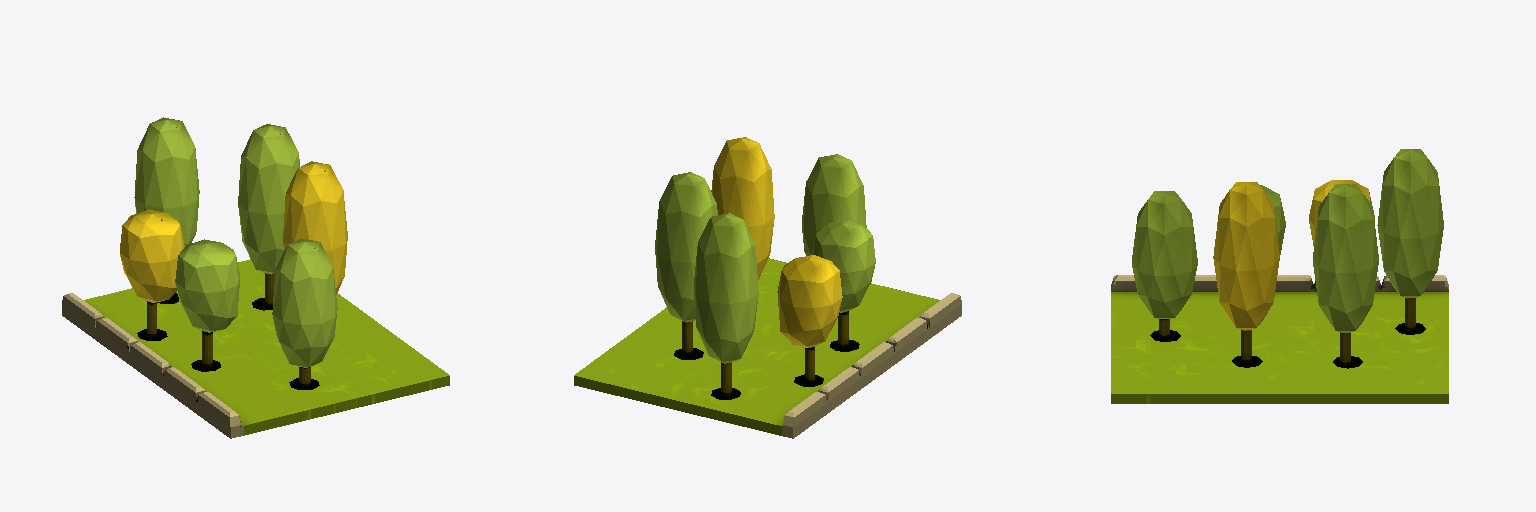
3 renders of one model, left to right at view 1: azimuth 30°, elevation 25°; view 2: azimuth 150°, elevation 25°; view 3: azimuth 270°, elevation 25°, orthographic.
Visible parts, largest first — view 1: garden_Cube.131; view 2: garden_Cube.131; view 3: garden_Cube.131.
Part boxes in pixels (bbox=[...]): garden_Cube.131: bbox=[62, 117, 449, 438]; garden_Cube.131: bbox=[574, 137, 961, 438]; garden_Cube.131: bbox=[1111, 149, 1448, 403].
Size of the model in its own units: 7.61 by 6.24 by 10.13.
4 materials, 3 textured.